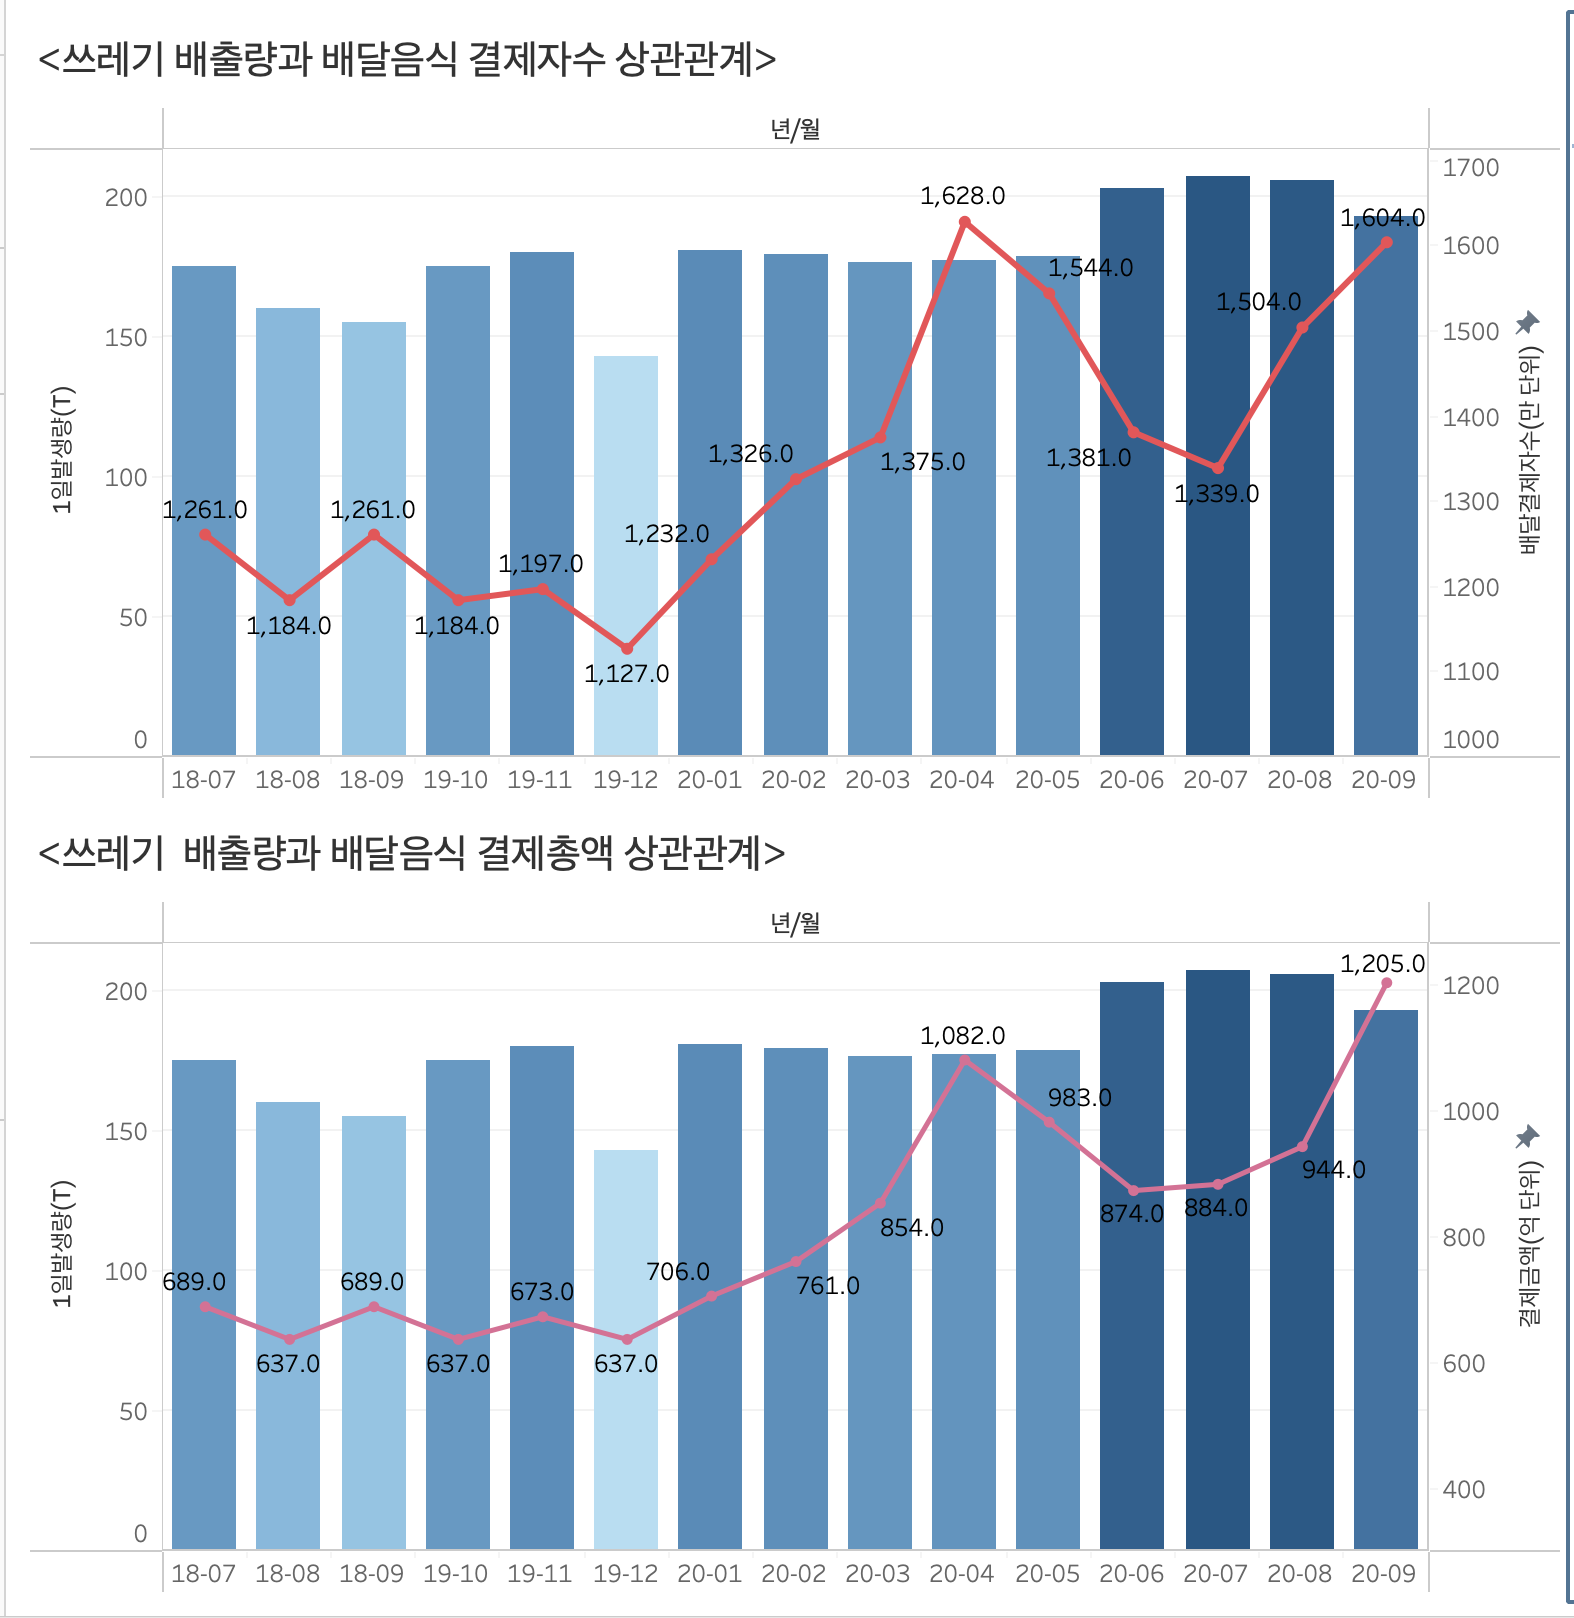

What the dashboard file says about the page in this screenshot:
{"tool":"tableau","page":{"name":"대시보드 5","canvas":[1000,1000],"units":"permille","ordinal":3},"visuals":[{"type":"worksheet","title":"쓰레기_결제자수","mark":"Bar","rows":["1일발생량(t)","배달결제자수"],"cols":["년/월"],"box":[8.4,10.2,814.7,489.8]},{"type":"legend","title":"쓰레기_결제자수","param":"[federated.07q6bxc1hfdv3q14ziqiv0dctjte].[sum:1일발생량(t):qk]","box":[823.2,10.2,168.4,83.2]},{"type":"worksheet","title":"쓰레기_결제총액","mark":"Automatic","rows":["1일발생량(t)","결제금액"],"cols":["년/월"],"box":[8.4,500,814.7,489.8]}]}

Visuals, with their boxes on the dashboard's canvas, which has no fixed pixel size, in thousandths of its width and height (x1, y1, x2, y2). These are canvas units, not pixel positions in the 1574x1618 screenshot, which may show the page scaled, cropped or inside an application window:
"쓰레기_결제자수" worksheet (Bar marks): rect(8, 10, 823, 500)
"쓰레기_결제자수" legend: rect(823, 10, 992, 93)
"쓰레기_결제총액" worksheet: rect(8, 500, 823, 990)
